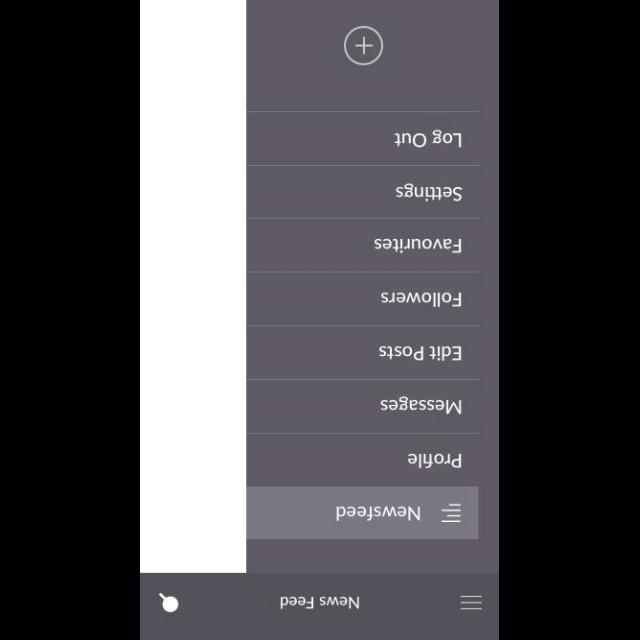icon: (344, 25, 384, 65), (158, 592, 180, 612), (440, 502, 460, 522), (460, 594, 482, 610)
panel: (247, 1, 499, 572)
text: (381, 396, 462, 414), (373, 238, 461, 254), (336, 505, 420, 521), (381, 292, 461, 308), (394, 130, 462, 148), (396, 183, 462, 201), (379, 346, 461, 360), (280, 595, 360, 609), (407, 453, 461, 469)
